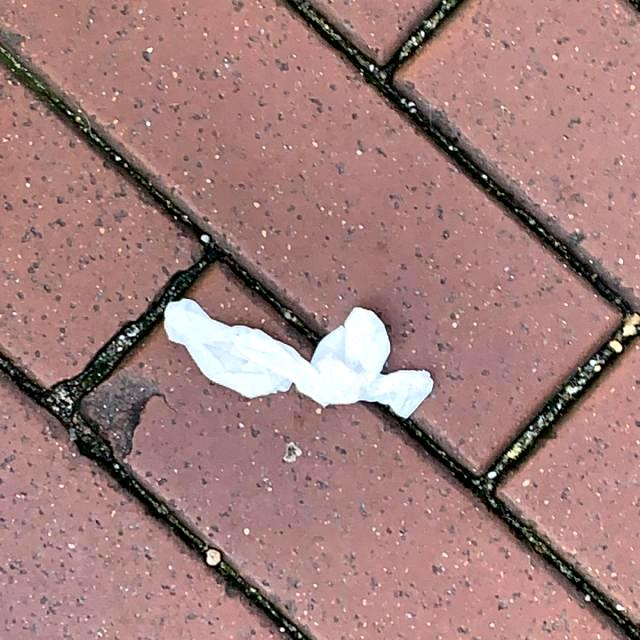Paper: (161, 294, 437, 418)
